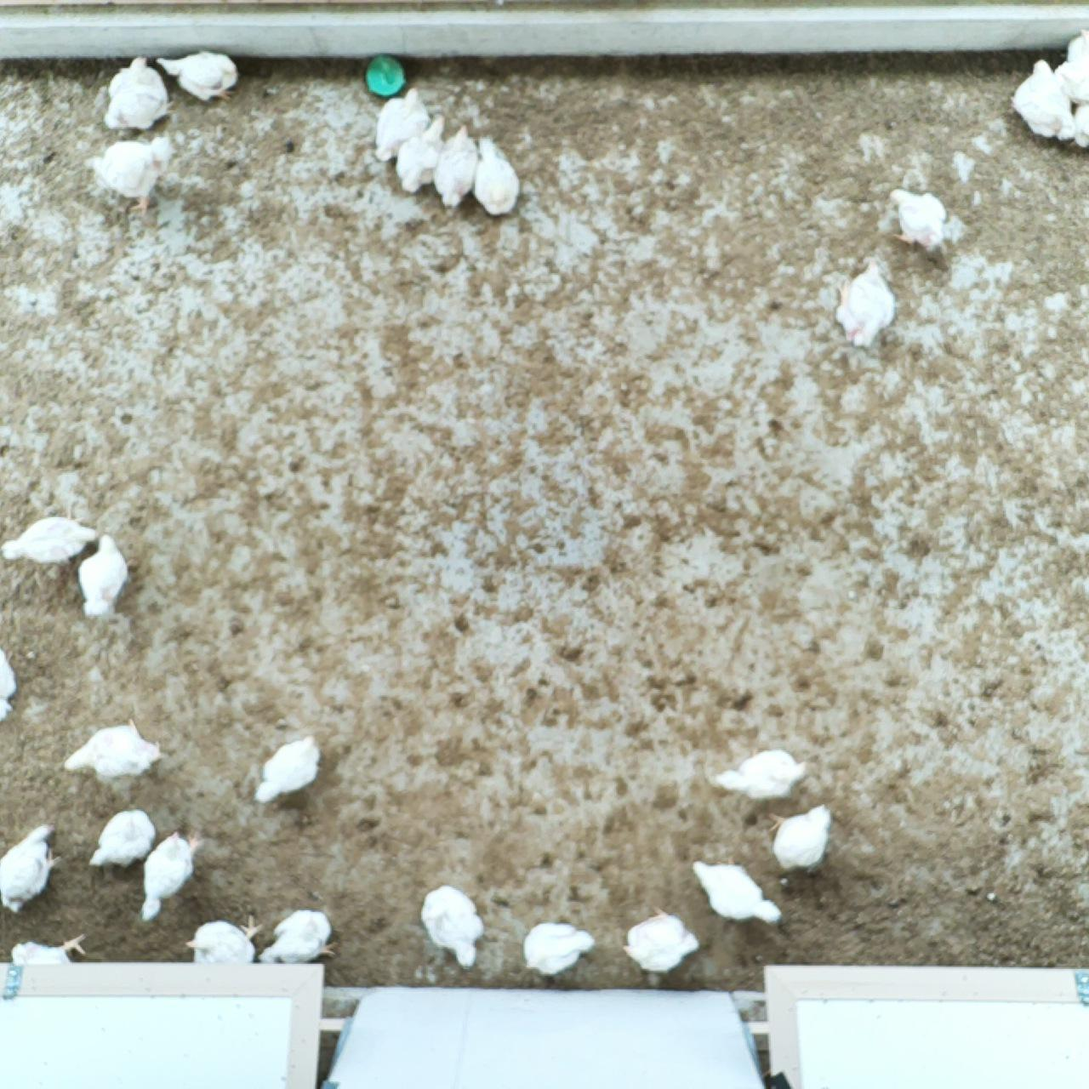chicken: (64, 716, 167, 781), (694, 858, 786, 927), (97, 136, 174, 218), (0, 821, 66, 913), (142, 829, 206, 923), (836, 254, 898, 348), (1011, 57, 1075, 146), (622, 907, 703, 973), (103, 55, 171, 133), (423, 886, 484, 972), (253, 732, 322, 806), (717, 749, 810, 800), (374, 86, 433, 164), (255, 908, 336, 964), (395, 112, 449, 194), (1, 517, 97, 563), (89, 807, 157, 871), (769, 803, 832, 871), (432, 121, 480, 209), (80, 534, 129, 619), (888, 185, 948, 251), (186, 915, 264, 965), (159, 52, 240, 100), (473, 135, 520, 214), (525, 923, 597, 973), (11, 933, 90, 965), (1063, 30, 1089, 102), (0, 644, 20, 725), (1072, 104, 1089, 151)
